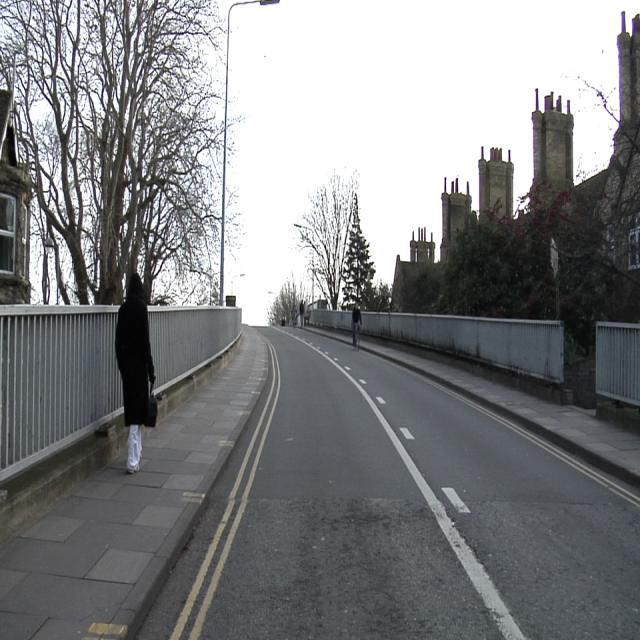Building: (392, 178, 471, 311), (530, 90, 574, 203), (479, 148, 514, 222), (618, 27, 640, 119)
Road: (136, 330, 634, 639)
Tree: (2, 2, 219, 303), (297, 171, 375, 307), (268, 275, 309, 325)
person: (115, 273, 155, 472), (351, 303, 361, 348)
